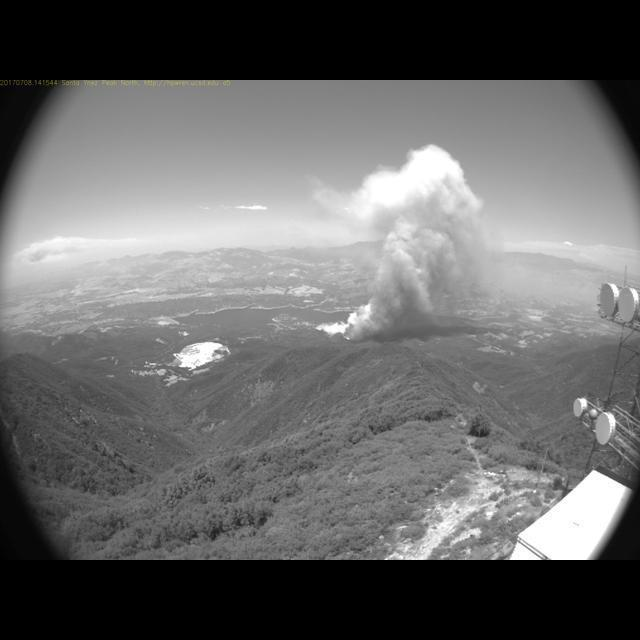Smoke: (308, 141, 511, 338)
